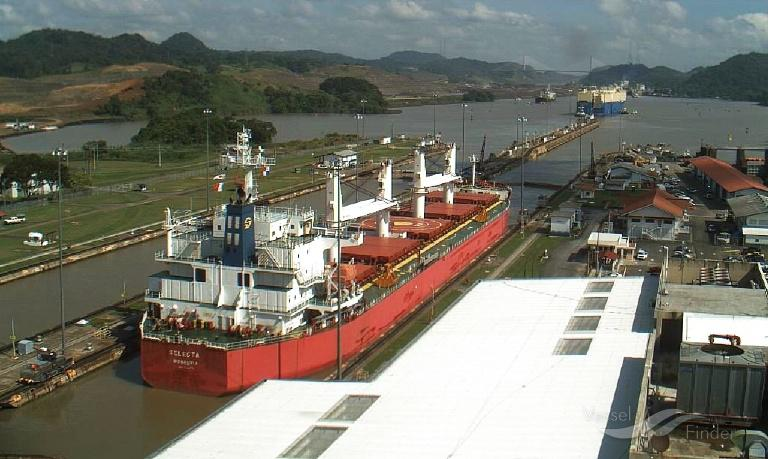OCR: (158, 346, 205, 376)
